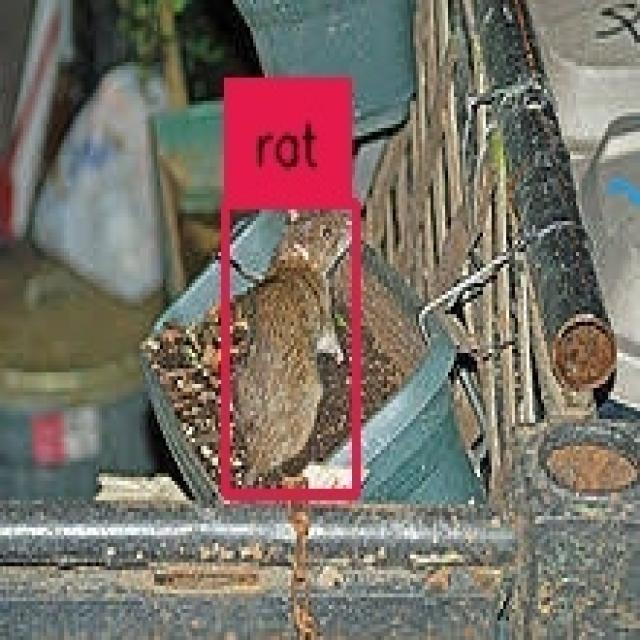rat: (224, 205, 358, 492)
